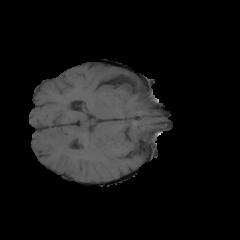glioma: (70, 126, 136, 151)
